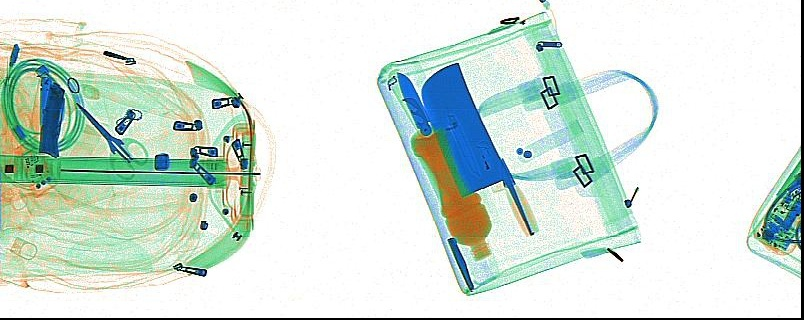knife: (420, 60, 537, 237), (386, 67, 432, 136), (36, 81, 66, 159), (446, 235, 473, 293), (35, 73, 57, 137)
scissors: (72, 99, 148, 181)
